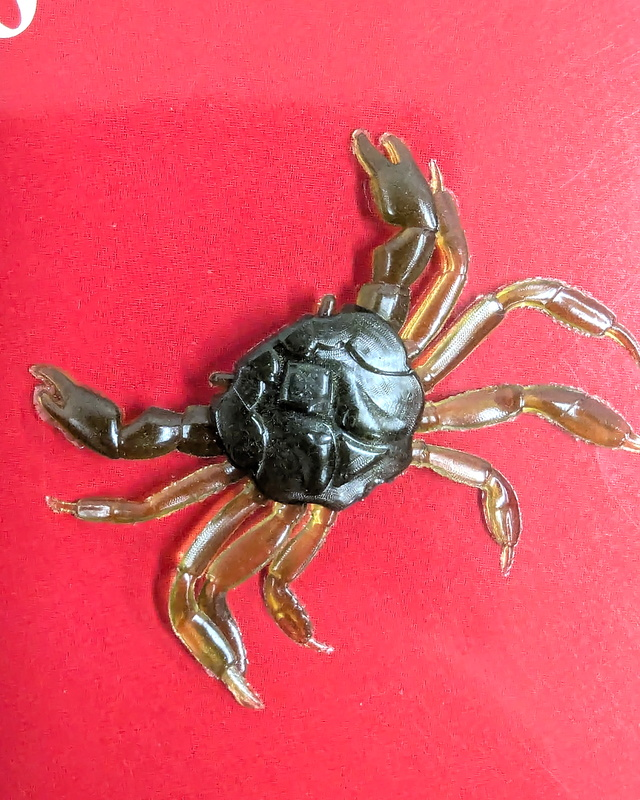crab2: (28, 128, 640, 713)
